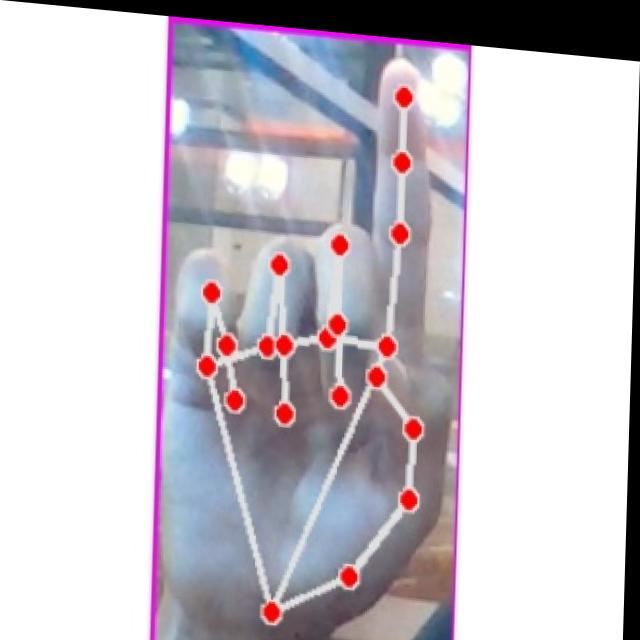D: (167, 27, 462, 640)
